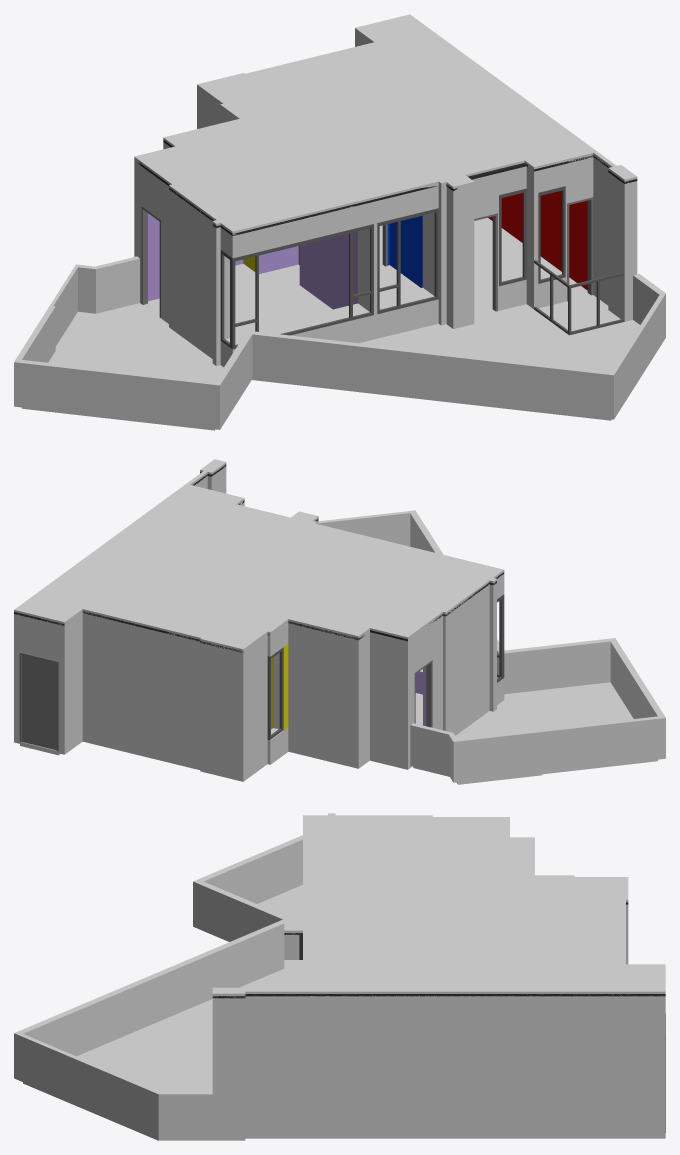
The model's file is theavenue_h_7f.fbx.
3 renders of one model, top to bottom at view 1: azimuth 30°, elevation 25°; view 2: azimuth 150°, elevation 25°; view 3: azimuth 270°, elevation 25°, orthographic. The views are drawn at different scales.
Visible parts, largest first — view 1: ceiling_01, flatroof_04, flatroof_02, flatroof_01, wall_c_01, pCube60, floor_01, wall_o_04, wall_o_010, wall_c_02, wall_o_08, flatroof_05 (+30 smaller); view 2: ceiling_01, flatroof_04, wall_o_018, wall_o_013, flatroof_01, pCube60, wall_o_016, wall_o_020, wall_o_015, door_m_01, wall_o_014, wall_o_017 (+13 smaller); view 3: ceiling_01, wall_o_010, flatroof_04, flatroof_05, flatroof_02, wall_o_09, wall_o_08, wall_top, wall_bottom, flatroof_01.
Boxes of the visible parts, box(x1,y1,x2,y2) form: ceiling_01: box(134, 14, 637, 235); flatroof_04: box(14, 264, 613, 429); flatroof_02: box(252, 304, 640, 420); flatroof_01: box(21, 303, 223, 430); wall_c_01: box(235, 201, 375, 343); pCube60: box(169, 190, 212, 358); floor_01: box(148, 263, 332, 333); wall_o_04: box(446, 186, 474, 328); wall_o_010: box(488, 190, 587, 290); wall_c_02: box(375, 186, 438, 338); wall_o_08: box(608, 172, 637, 321); flatroof_05: box(611, 274, 665, 418); ceiling_01: box(14, 459, 504, 653); flatroof_04: box(410, 510, 665, 782); wall_o_018: box(288, 623, 358, 766); wall_o_013: box(82, 613, 144, 754); flatroof_01: box(413, 682, 657, 784); pCube60: box(443, 584, 489, 735); wall_o_016: box(200, 643, 243, 779); wall_o_020: box(370, 632, 407, 767); wall_o_015: box(172, 635, 200, 767); door_m_01: box(19, 652, 58, 751); wall_o_014: box(145, 628, 172, 761); wall_o_017: box(243, 636, 267, 779); ceiling_01: box(212, 813, 665, 998); wall_o_010: box(288, 996, 665, 1136); flatroof_04: box(14, 835, 302, 1056); flatroof_05: box(14, 1033, 212, 1139); flatroof_02: box(23, 969, 284, 1140); wall_o_09: box(245, 996, 288, 1136); wall_o_08: box(212, 998, 245, 1138); wall_top: box(212, 902, 665, 998); wall_bottom: box(212, 1136, 665, 1140); flatroof_01: box(257, 885, 302, 919).
Size of the model in its own units: 1318 by 330 by 1308.
